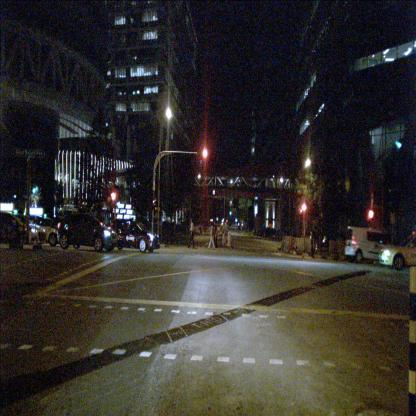human-pedestrian-adult: (206, 221, 216, 250), (187, 218, 195, 249), (309, 228, 316, 258), (222, 221, 228, 248), (213, 221, 218, 249)
movable_object-barrier: (281, 236, 292, 251), (304, 237, 312, 254), (296, 237, 304, 253), (227, 230, 232, 247), (222, 230, 226, 248)
movable_object-trafficcone: (294, 241, 297, 254), (315, 242, 318, 255)
vehicle-car: (344, 224, 406, 264), (58, 213, 118, 252), (108, 218, 160, 252), (0, 209, 46, 246), (13, 215, 62, 247), (378, 232, 416, 272)
